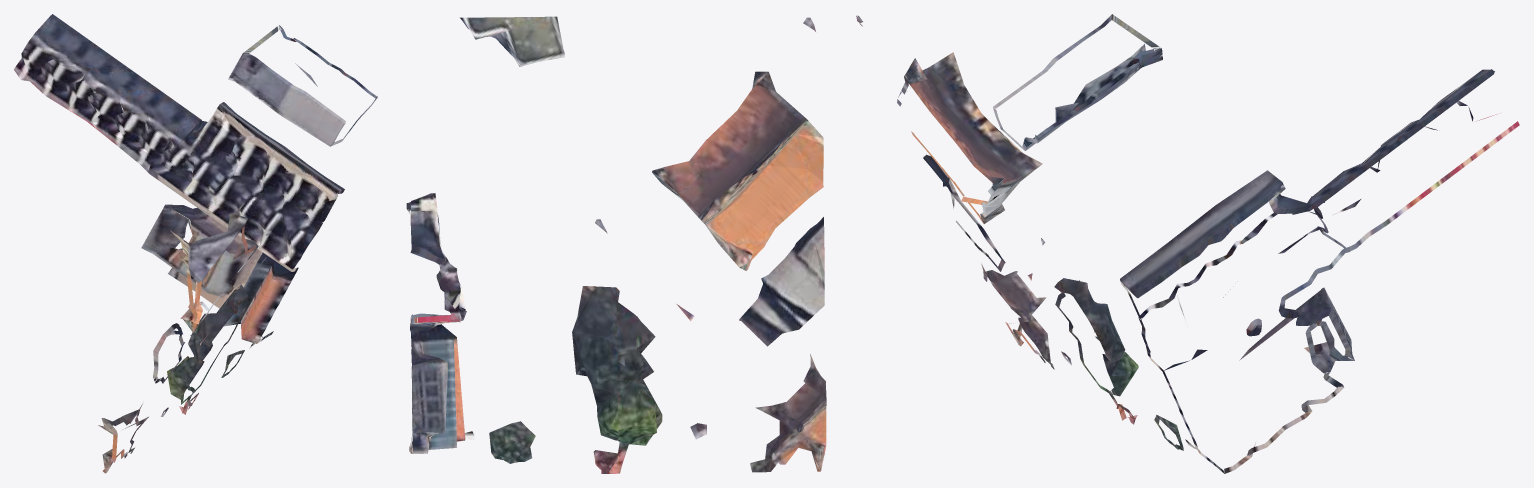
3 views of the same model, side by side, from view 1: azimuth 30°, elevation 25°; view 2: azimuth 150°, elevation 25°; view 3: azimuth 270°, elevation 25° (orthographic). The views are drawn at different scales.
Size of the model in its own units: 34.68 by 40.17 by 54.92.
Materials: 1 (1 with a texture image).
